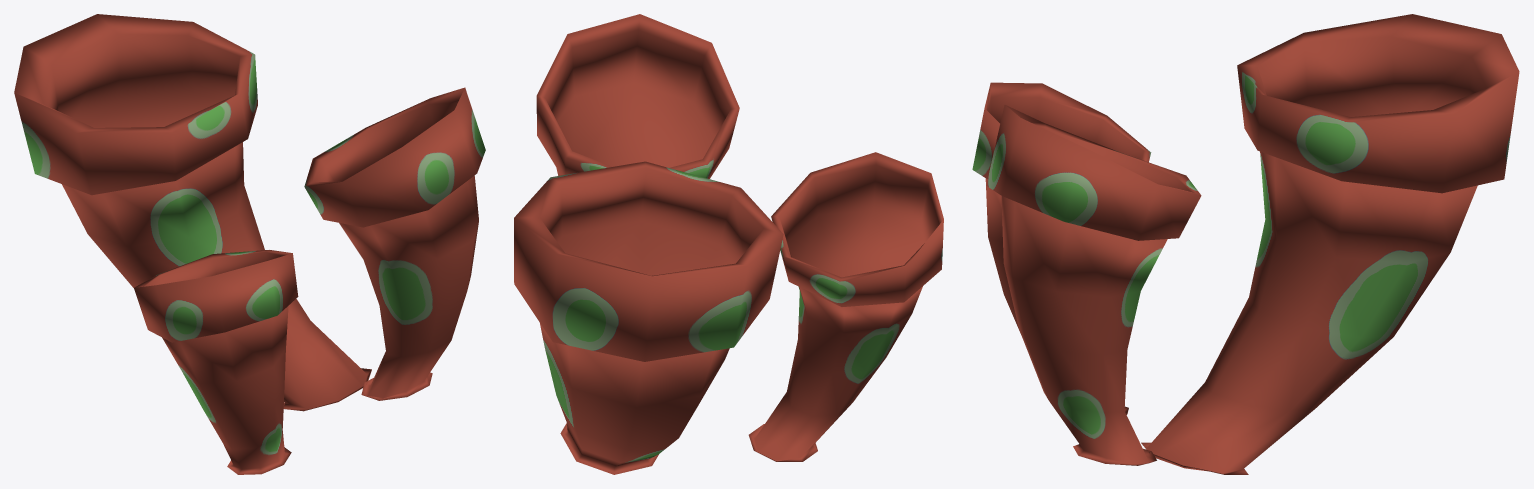
Rendered from object_78_lev3.glb.
3 renders of one model, left to right at view 1: azimuth 30°, elevation 25°; view 2: azimuth 150°, elevation 25°; view 3: azimuth 270°, elevation 25°, orthographic. The views are drawn at different scales.
Parts seen in each view (by area): view 1: object_78_lev3; view 2: object_78_lev3; view 3: object_78_lev3.
Boxes of the visible parts, x1,y1,x2,y2 form: object_78_lev3: (14, 14, 485, 474); object_78_lev3: (514, 14, 943, 474); object_78_lev3: (972, 14, 1519, 474).
Size of the model in its own units: 1.57 by 1.49 by 1.9.
1 material, 1 textured.
